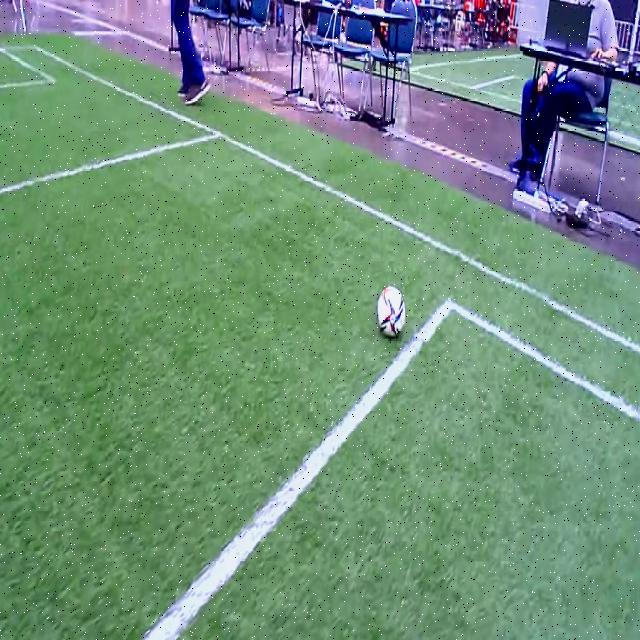ball: (376, 284, 406, 338)
